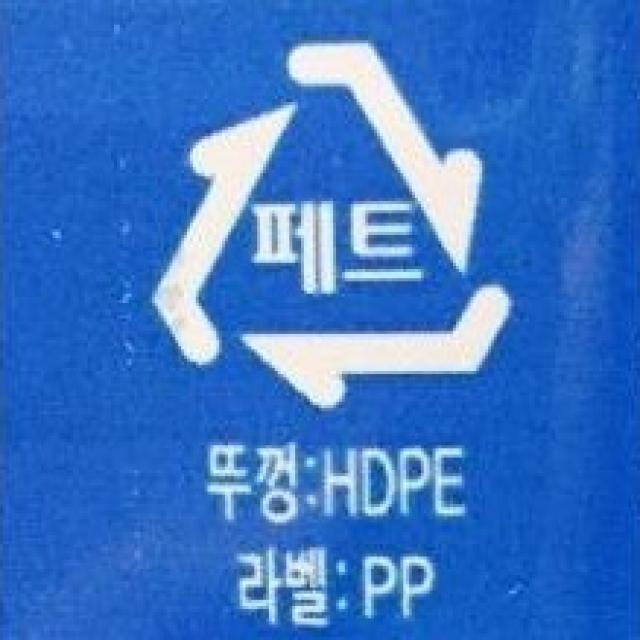PET: (142, 29, 520, 418)
